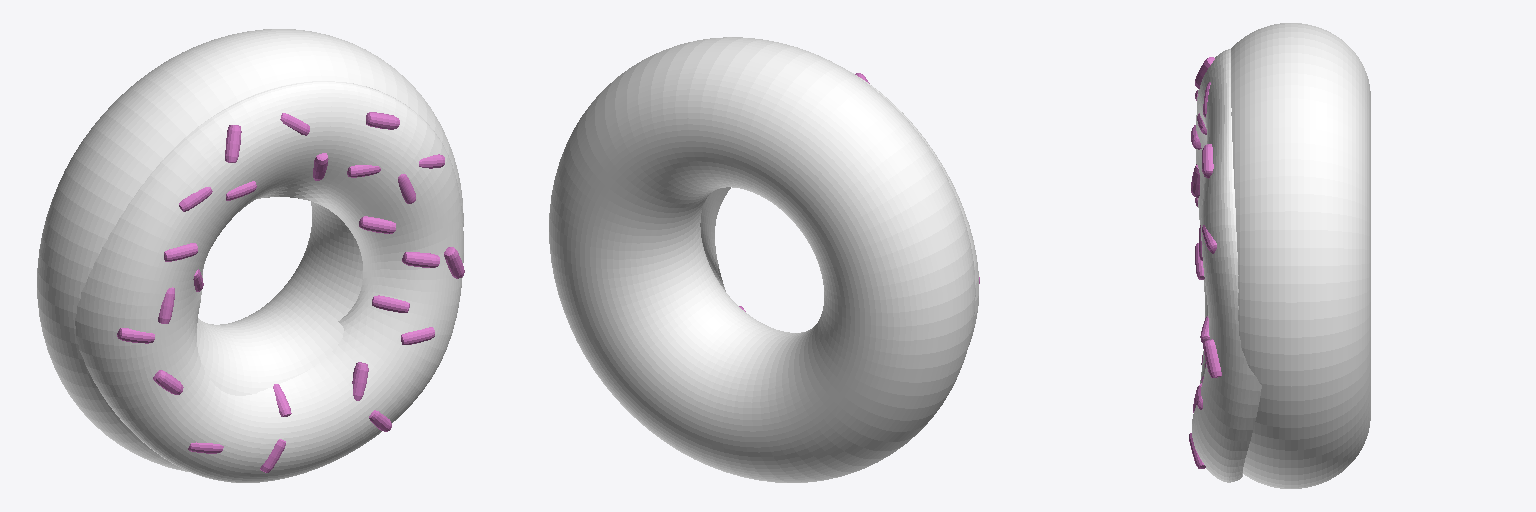
File: Vanilla.obj
3 renders of one model, left to right at view 1: azimuth 30°, elevation 25°; view 2: azimuth 150°, elevation 25°; view 3: azimuth 270°, elevation 25°, orthographic.
Visible parts, largest first — view 1: mesh02, mesh01; view 2: mesh01, mesh02; view 3: mesh01, mesh02.
Boxes of the visible parts, x1=… form: mesh02: x1=75, y1=81, x2=463, y2=482; mesh01: x1=37, y1=29, x2=463, y2=471; mesh01: x1=549, y1=37, x2=975, y2=482; mesh02: x1=700, y1=71, x2=978, y2=344; mesh01: x1=1231, y1=23, x2=1370, y2=488; mesh02: x1=1192, y1=49, x2=1261, y2=482.
Size of the model in its own units: 171 by 171 by 66.36.